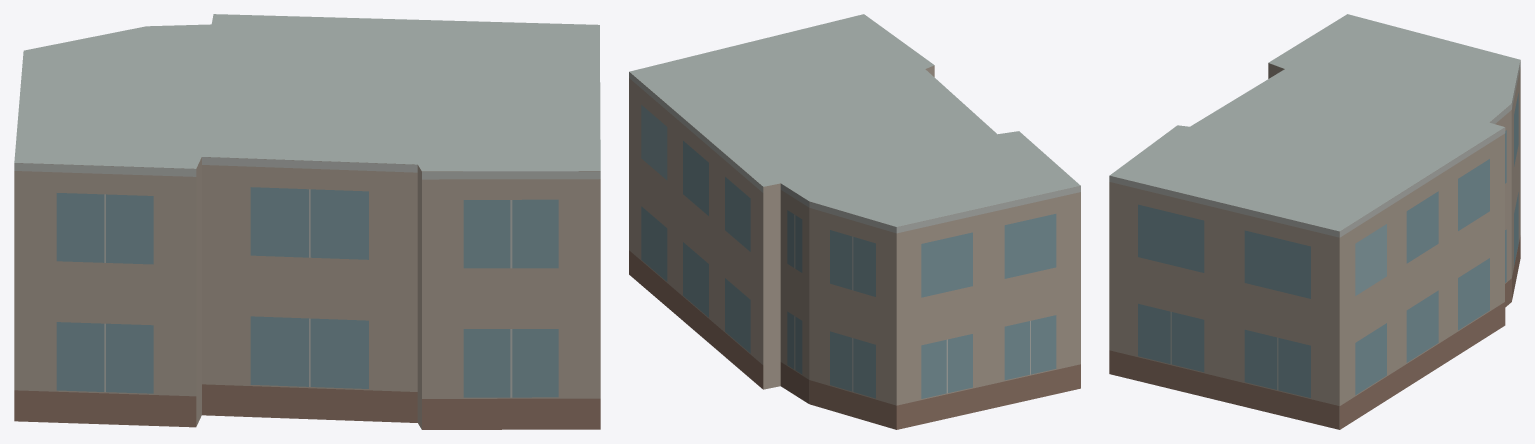
File: survey-upis-32486704.glb
3 renders of one model, left to right at view 1: azimuth 30°, elevation 25°; view 2: azimuth 150°, elevation 25°; view 3: azimuth 270°, elevation 25°, orthographic. The views are drawn at different scales.
Visible parts, largest first — view 1: survey-upis-32486704.tmp; view 2: survey-upis-32486704.tmp; view 3: survey-upis-32486704.tmp.
Part boxes in pixels (x1,y1,x2,y2): survey-upis-32486704.tmp: (14,14,600,429); survey-upis-32486704.tmp: (629,14,1080,429); survey-upis-32486704.tmp: (1109,14,1520,429).
Bounding box in the file's own units: 18.35 × 7.8 × 14.66.
